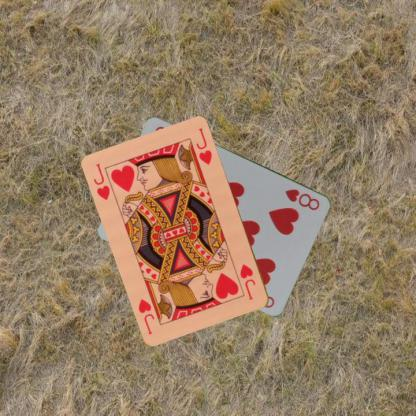8h: (283, 186, 321, 212)
Jh: (92, 160, 112, 202), (238, 261, 257, 302)
